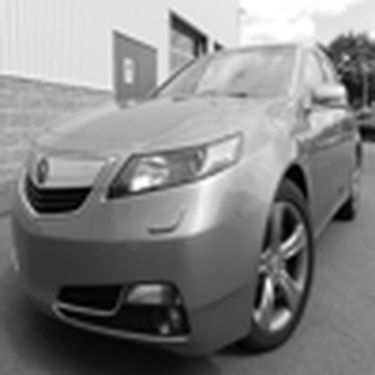car: (4, 40, 365, 365), (353, 96, 371, 138)
